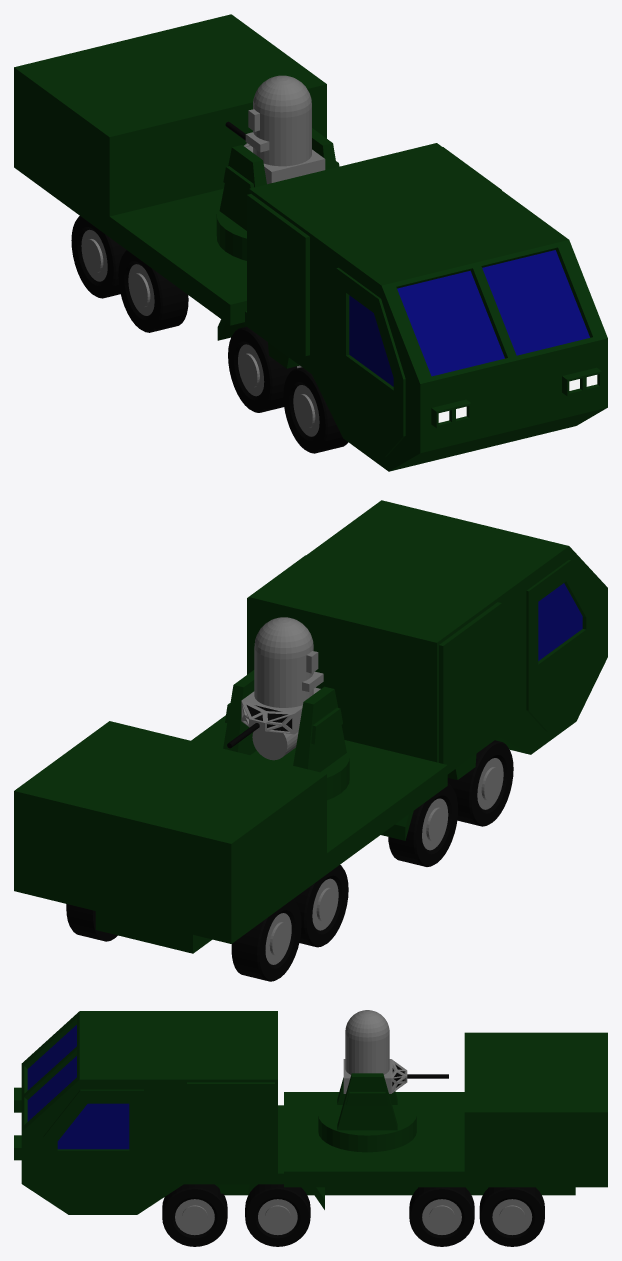
Rendered from truck.glb.
3 renders of one model, top to bottom at view 1: azimuth 30°, elevation 25°; view 2: azimuth 150°, elevation 25°; view 3: azimuth 270°, elevation 25°, orthographic. The views are drawn at different scales.
Visible parts, largest first — view 1: Cube.011, Cube.012, Sphere.003, Cylinder.007, Cylinder.006, Cylinder.005, Cylinder.008, Cube.016, Cylinder.015, Cube.015; view 2: Cube.011, Cube.012, Sphere.003, Cube.016, Cylinder.008, Cylinder.005, Cylinder.006, Cylinder.007, Cube.015, Cylinder.015, Cylinder.016; view 3: Cube.011, Cube.012, Cylinder.006, Cylinder.005, Cylinder.007, Cylinder.008, Cube.016, Cylinder.015, Sphere.003, Cube.015.
Boxes of the visible parts, <box> form: Cube.011: <box>217,143,607,471</box>; Cube.012: <box>14,14,326,325</box>; Sphere.003: <box>245,75,311,166</box>; Cylinder.007: <box>118,250,188,332</box>; Cylinder.006: <box>228,326,301,412</box>; Cylinder.005: <box>283,367,348,453</box>; Cylinder.008: <box>71,216,126,298</box>; Cube.016: <box>219,128,339,230</box>; Cylinder.015: <box>216,207,246,260</box>; Cube.015: <box>244,143,325,184</box>; Cube.011: <box>247,500,607,840</box>; Cube.012: <box>14,715,447,953</box>; Sphere.003: <box>254,617,323,707</box>; Cube.016: <box>223,670,346,772</box>; Cylinder.008: <box>66,899,301,981</box>; Cylinder.005: <box>447,740,513,826</box>; Cylinder.006: <box>388,783,458,866</box>; Cylinder.007: <box>293,865,348,947</box>; Cube.015: <box>241,687,320,734</box>; Cylinder.015: <box>222,747,349,800</box>; Cylinder.016: <box>252,729,298,760</box>; Cube.011: <box>14,1011,324,1214</box>; Cube.012: <box>215,1032,607,1195</box>; Cylinder.006: <box>245,1184,310,1246</box>; Cylinder.005: <box>162,1184,227,1246</box>; Cylinder.007: <box>409,1187,474,1246</box>; Cylinder.008: <box>479,1187,544,1246</box>; Cube.016: <box>337,1073,397,1130</box>; Cylinder.015: <box>318,1098,416,1152</box>; Sphere.003: <box>345,1010,389,1074</box>; Cube.015: <box>343,1059,407,1093</box>.
Size of the model in its own units: 2.32 by 2.7 by 7.32.
